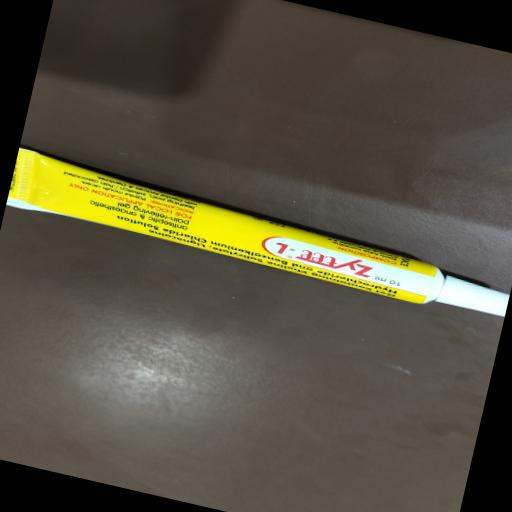Zytee-L: (256, 236, 378, 282)
medicine: (4, 173, 498, 320)
